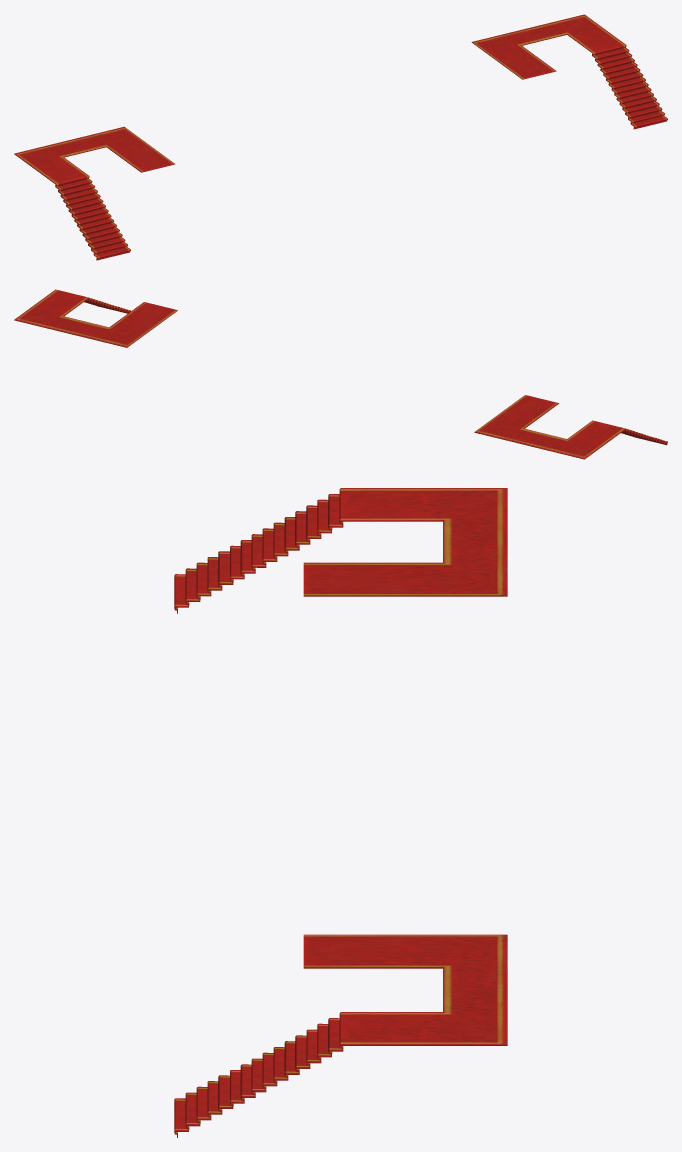
File: StairCarpet.fbx
3 renders of one model, top to bottom at view 1: azimuth 30°, elevation 25°; view 2: azimuth 150°, elevation 25°; view 3: azimuth 270°, elevation 25°, orthographic. The views are drawn at different scales.
Visible parts, largest first — view 1: object091, object090; view 2: object091, object090; view 3: object091, object090.
Part boxes in pixels (x1,y1,x2,y2): object091: [471, 14, 667, 129]; object090: [14, 126, 175, 260]; object091: [14, 289, 177, 347]; object090: [474, 395, 667, 459]; object091: [174, 934, 507, 1137]; object090: [174, 488, 507, 613].
Size of the model in its own units: 193 by 15.03 by 48.8.
Materials: 1 (1 with a texture image).
